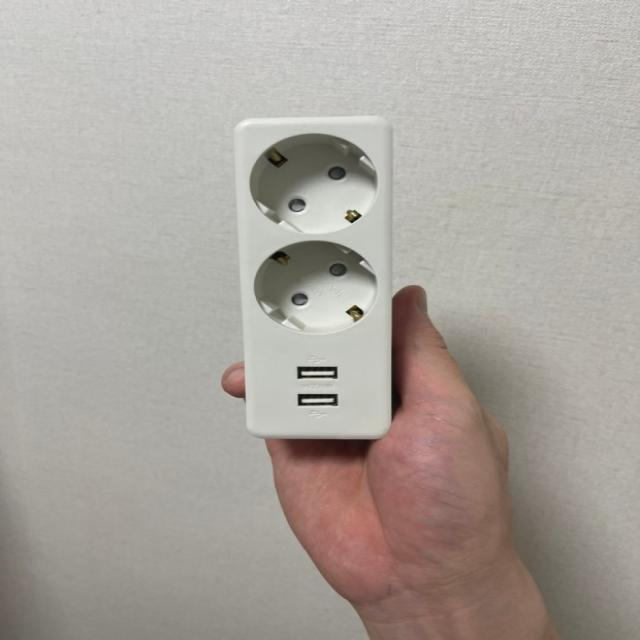typeb: (174, 101, 418, 449)
